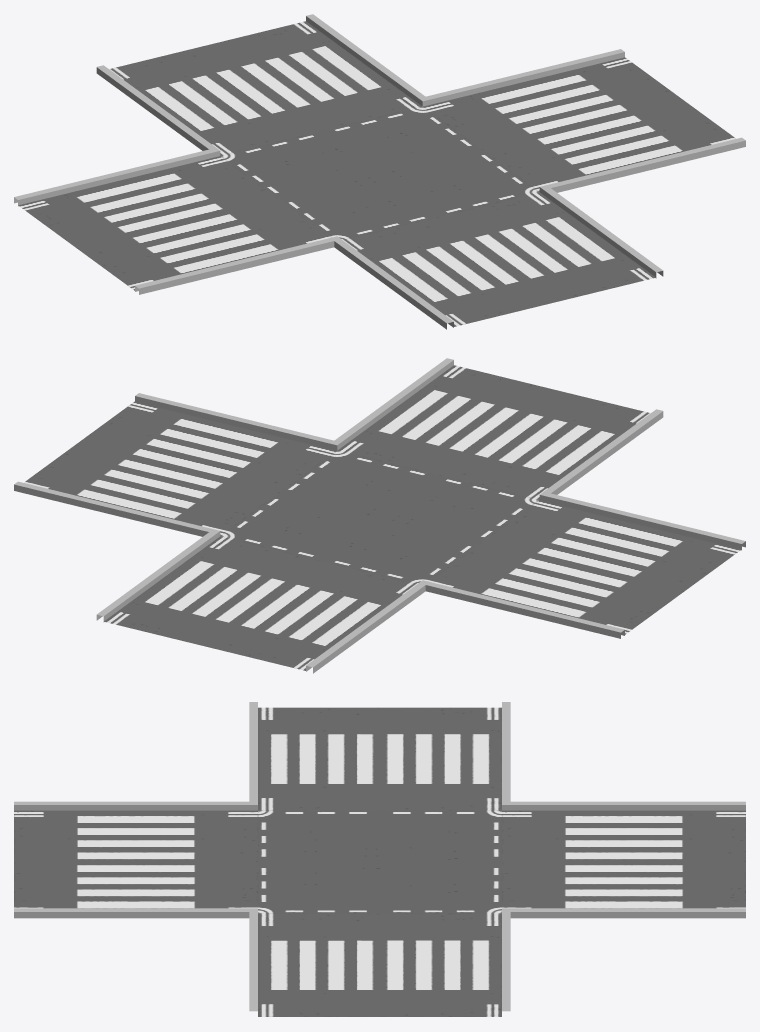
Rendered from Cross.x.fbx.
3 views of the same model, one above another, from view 1: azimuth 30°, elevation 25°; view 2: azimuth 150°, elevation 25°; view 3: azimuth 270°, elevation 25° (orthographic). The views are drawn at different scales.
Visible parts, largest first — view 1: CrossX; view 2: CrossX; view 3: CrossX.
Boxes of the visible parts, left/top/right/bottom form: CrossX: left=14, top=14, right=745, bottom=329; CrossX: left=14, top=358, right=745, bottom=673; CrossX: left=14, top=702, right=745, bottom=1016.
Bounding box in the file's own units: 1181 × 11.81 × 1181.
